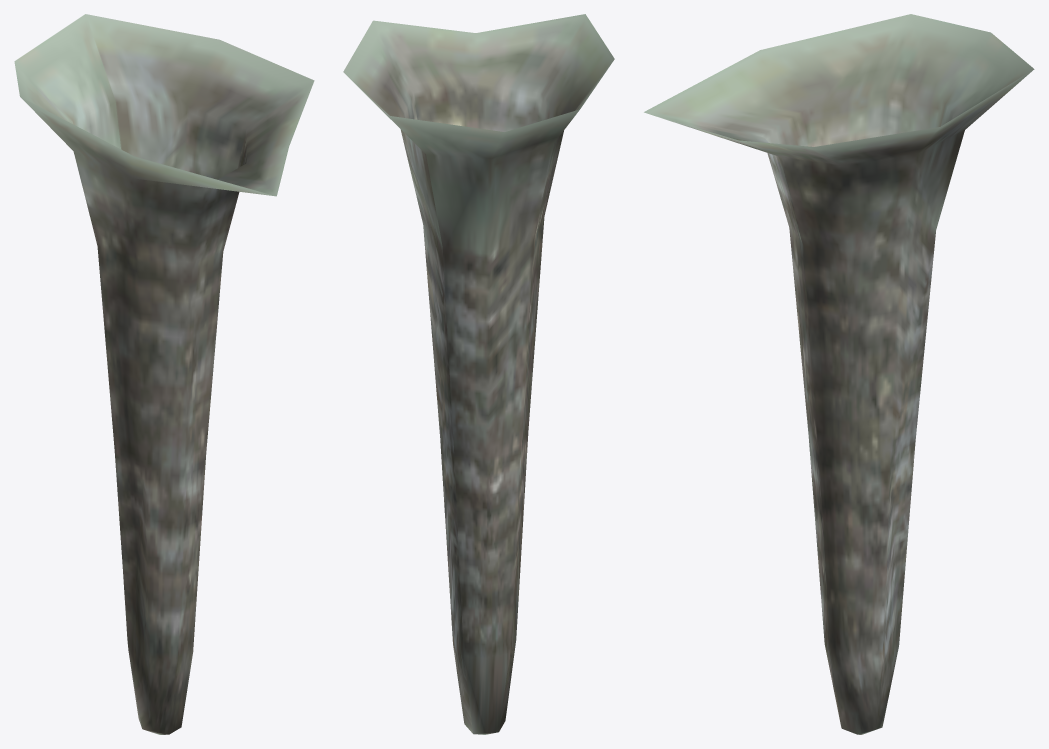
File: TROLLHOLE02_PS-MAINSTALAG80.fbx
3 renders of one model, left to right at view 1: azimuth 30°, elevation 25°; view 2: azimuth 150°, elevation 25°; view 3: azimuth 270°, elevation 25°, orthographic. The views are drawn at different scales.
Visible parts, largest first — view 1: TROLLHOLE02_PS-MAINSTALAG80; view 2: TROLLHOLE02_PS-MAINSTALAG80; view 3: TROLLHOLE02_PS-MAINSTALAG80.
Boxes of the visible parts, x1,y1,x2,y2 form: TROLLHOLE02_PS-MAINSTALAG80: (14,14,314,734); TROLLHOLE02_PS-MAINSTALAG80: (343,14,614,734); TROLLHOLE02_PS-MAINSTALAG80: (644,14,1034,734).
Size of the model in its own units: 17985 by 45644 by 24120.
1 material, 1 textured.
